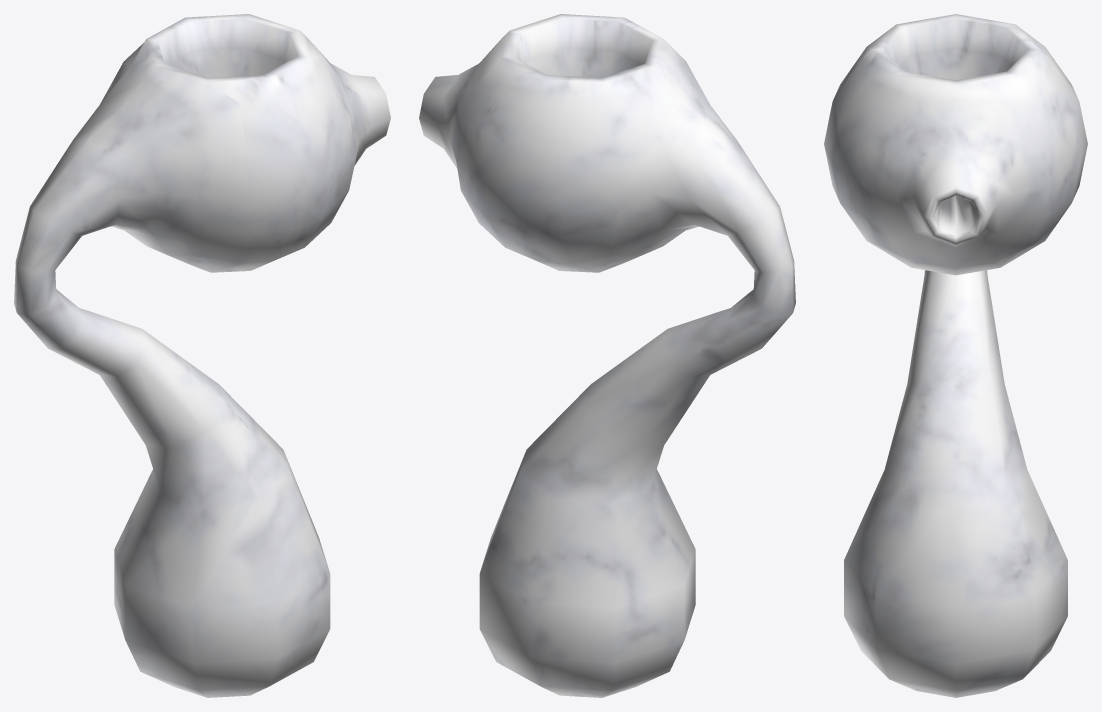
The model's file is TurretStatic.fbx.
The picture shows the model from 3 angles, left to right: view 1: azimuth 30°, elevation 25°; view 2: azimuth 150°, elevation 25°; view 3: azimuth 270°, elevation 25°; orthographic projection.
Parts seen in each view (by area): view 1: TurretStatic; view 2: TurretStatic; view 3: TurretStatic.
Boxes of the visible parts, x1,y1,x2,y2 form: TurretStatic: [14, 14, 390, 697]; TurretStatic: [419, 14, 795, 697]; TurretStatic: [824, 14, 1087, 697].
Size of the model in its own units: 63.1 by 106 by 40.
